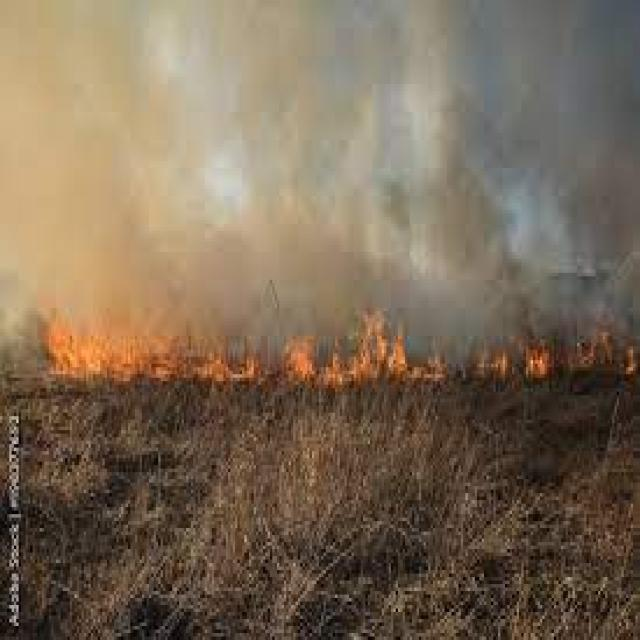Fire: (44, 319, 258, 388), (284, 311, 422, 383), (358, 308, 456, 386), (183, 336, 270, 389), (512, 318, 562, 390), (472, 342, 513, 399)
Smoke: (0, 0, 526, 324), (222, 0, 505, 338), (106, 0, 344, 344), (0, 0, 191, 361), (78, 0, 272, 344), (505, 0, 640, 315)
